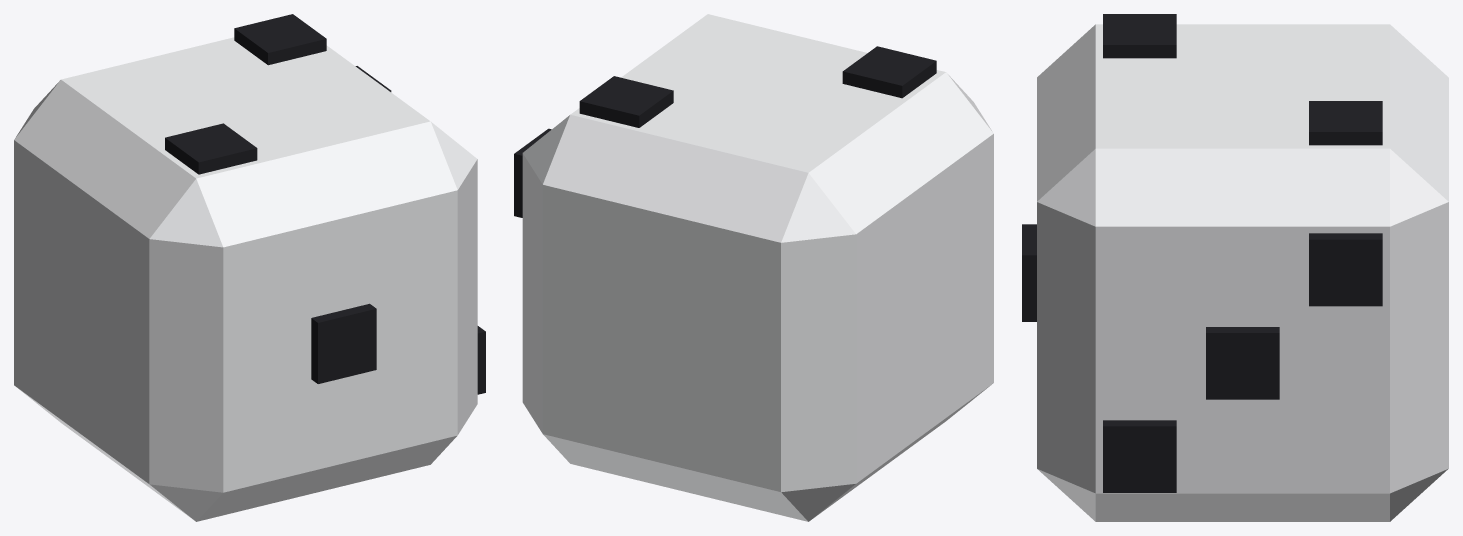
The model's file is Dice.fbx.
3 renders of one model, left to right at view 1: azimuth 30°, elevation 25°; view 2: azimuth 150°, elevation 25°; view 3: azimuth 270°, elevation 25°, orthographic. The views are drawn at different scales.
Parts seen in each view (by area): view 1: Dice; view 2: Dice; view 3: Dice.
Boxes of the visible parts, x1,y1,x2,y2 form: Dice: (14,14,485,521); Dice: (514,14,993,521); Dice: (1022,14,1448,521).
Size of the model in its own units: 1.45 by 1.45 by 1.45.
1 material, 1 textured.
